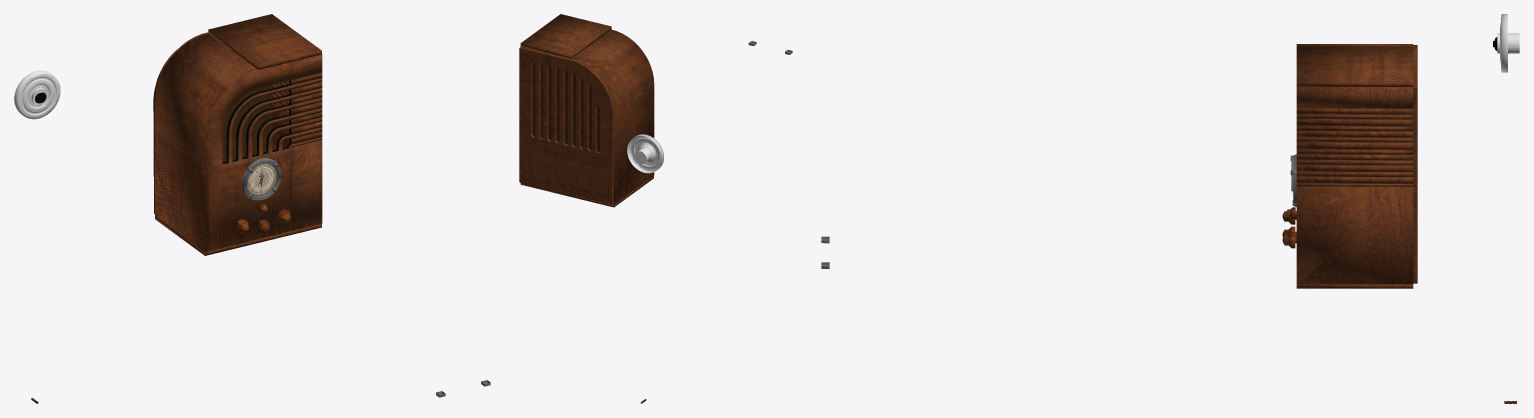
Rendered from vintageradio (1).glb.
The picture shows the model from 3 angles, left to right: view 1: azimuth 30°, elevation 25°; view 2: azimuth 150°, elevation 25°; view 3: azimuth 270°, elevation 25°; orthographic projection. The views are drawn at different scales.
Parts seen in each view (by area): view 1: radio korpus, Circle.020, Socket.001, Circle.028, Circle.011, scheibe, Circle.009, Bolt.008; view 2: radio korpus, Circle.020, Socket.001; view 3: radio korpus.
Boxes of the visible parts, x1,y1,x2,y2 form: radio korpus: (153, 14, 322, 255); Circle.020: (31, 85, 272, 403); Socket.001: (14, 70, 60, 119); Circle.028: (35, 80, 291, 164); Circle.011: (247, 163, 276, 195); scheibe: (247, 164, 276, 195); Circle.009: (241, 158, 282, 200); Bolt.008: (235, 202, 291, 233); radio korpus: (519, 14, 654, 207); Circle.020: (532, 62, 646, 403); Socket.001: (627, 134, 663, 173); radio korpus: (1296, 44, 1417, 288).
Bounding box in the file's own units: 0.5932 × 0.9659 × 1.41.
11 materials, 6 textured.
